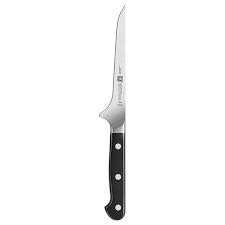knife: (97, 3, 127, 220)
